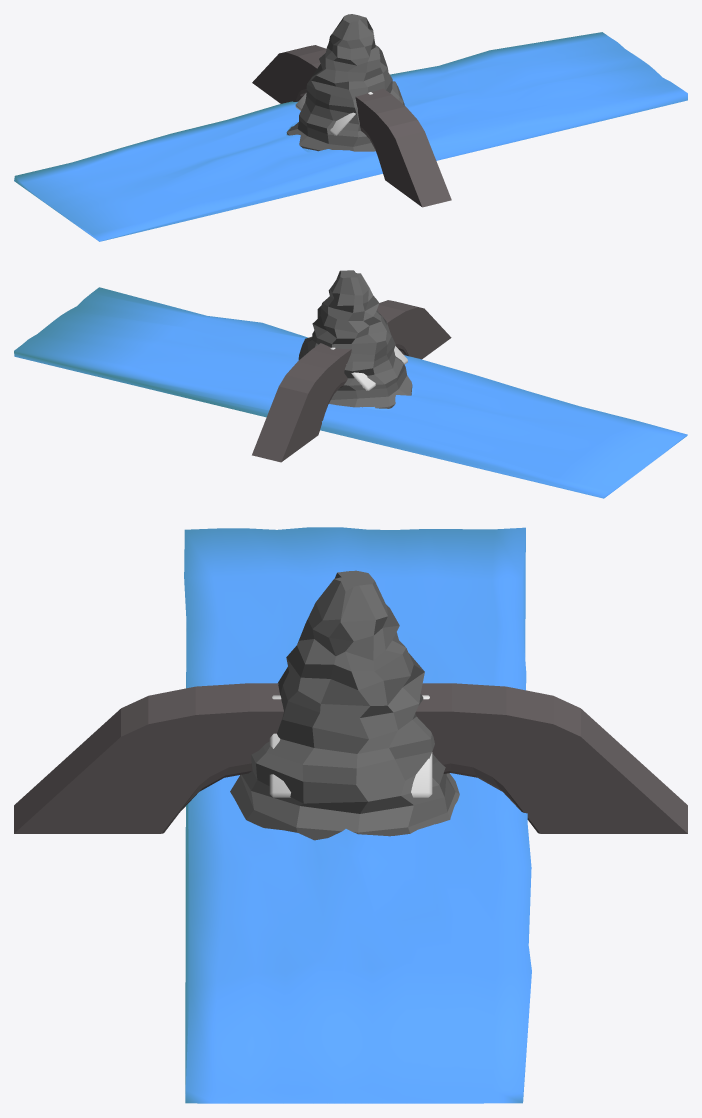
Rendered from winHole2.fbx.
3 views of the same model, one above another, from view 1: azimuth 30°, elevation 25°; view 2: azimuth 150°, elevation 25°; view 3: azimuth 270°, elevation 25° (orthographic). The views are drawn at different scales.
Visible parts, largest first — view 1: river, bridge, rockHard, houseRoof1; view 2: river, bridge, rockHard, houseRoof1; view 3: river, bridge, rockHard, houseRoof1.
Boxes of the visible parts, bbox=[...] form: river: bbox=[14, 32, 687, 241]; bridge: bbox=[252, 45, 451, 207]; rockHard: bbox=[286, 14, 404, 151]; houseRoof1: bbox=[295, 92, 372, 135]; river: bbox=[14, 287, 687, 498]; bridge: bbox=[252, 300, 451, 462]; rockHard: bbox=[298, 270, 412, 408]; houseRoof1: bbox=[330, 346, 407, 390]; river: bbox=[184, 527, 531, 1103]; bridge: bbox=[14, 683, 687, 833]; rockHard: bbox=[230, 570, 459, 840]; houseRoof1: bbox=[269, 695, 432, 797].
Size of what is drawn, in the model's own units: 999 by 199 by 500.
